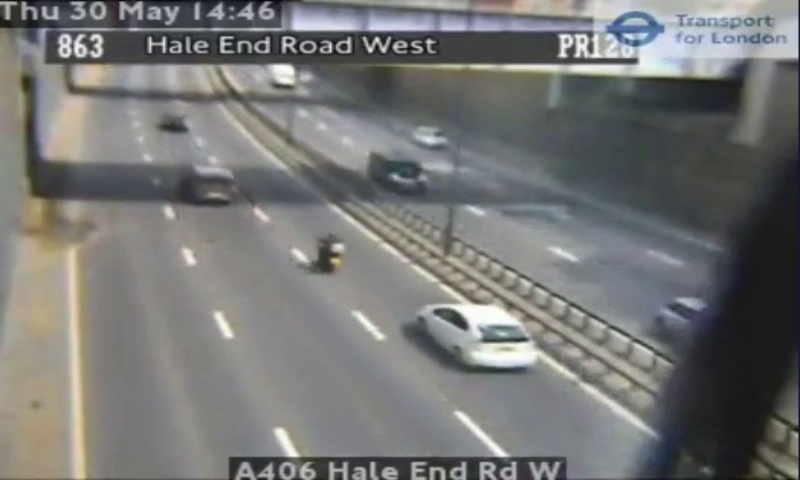car: (418, 302, 535, 368)
motorcycle: (317, 231, 346, 272)
van: (186, 166, 238, 205)
